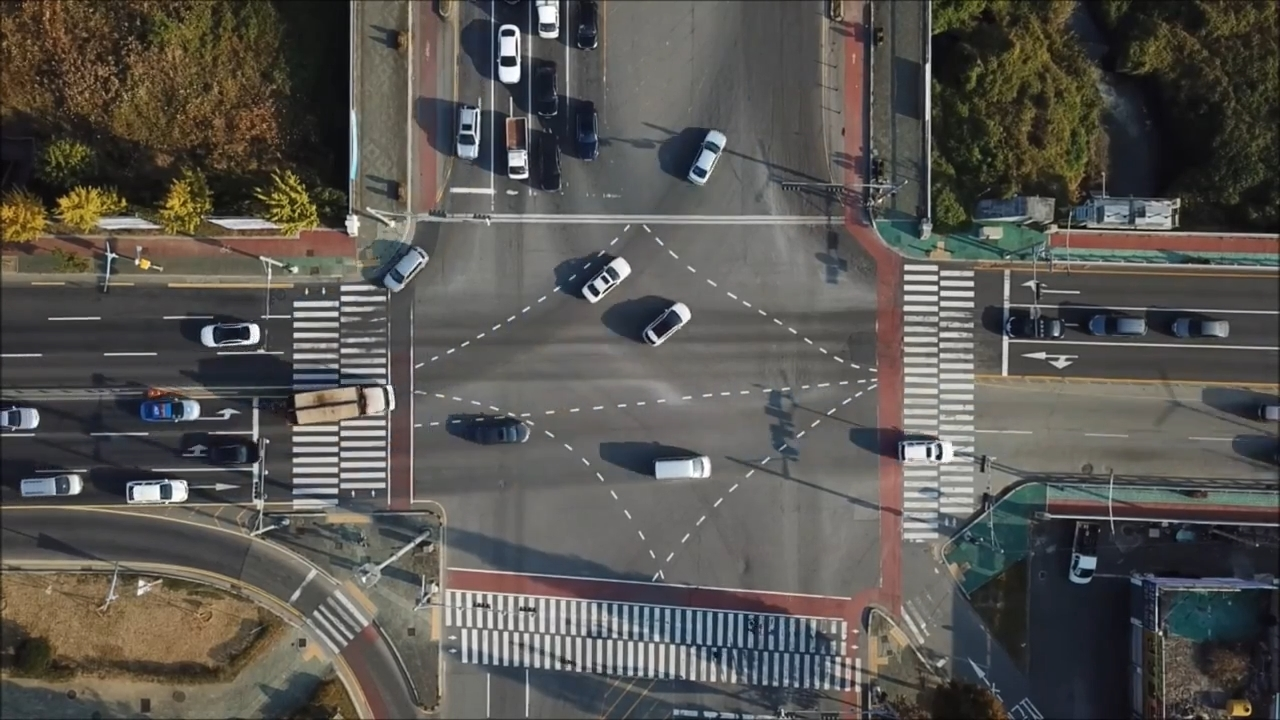car: (286, 383, 398, 424), (686, 127, 729, 187), (380, 243, 428, 294), (643, 299, 693, 347), (578, 260, 632, 304), (450, 104, 487, 160), (1067, 521, 1097, 586), (1171, 313, 1233, 341), (492, 21, 519, 85), (1089, 312, 1150, 339), (897, 439, 958, 466), (21, 473, 86, 498), (534, 124, 559, 189), (124, 478, 189, 502), (141, 398, 203, 423), (1011, 317, 1075, 341), (201, 320, 260, 346), (502, 113, 526, 175), (532, 55, 557, 114), (650, 456, 713, 478), (207, 441, 260, 467), (474, 422, 532, 445), (574, 102, 596, 162), (573, 1, 595, 50), (533, 1, 559, 36), (1, 408, 39, 430), (1258, 400, 1280, 421)
